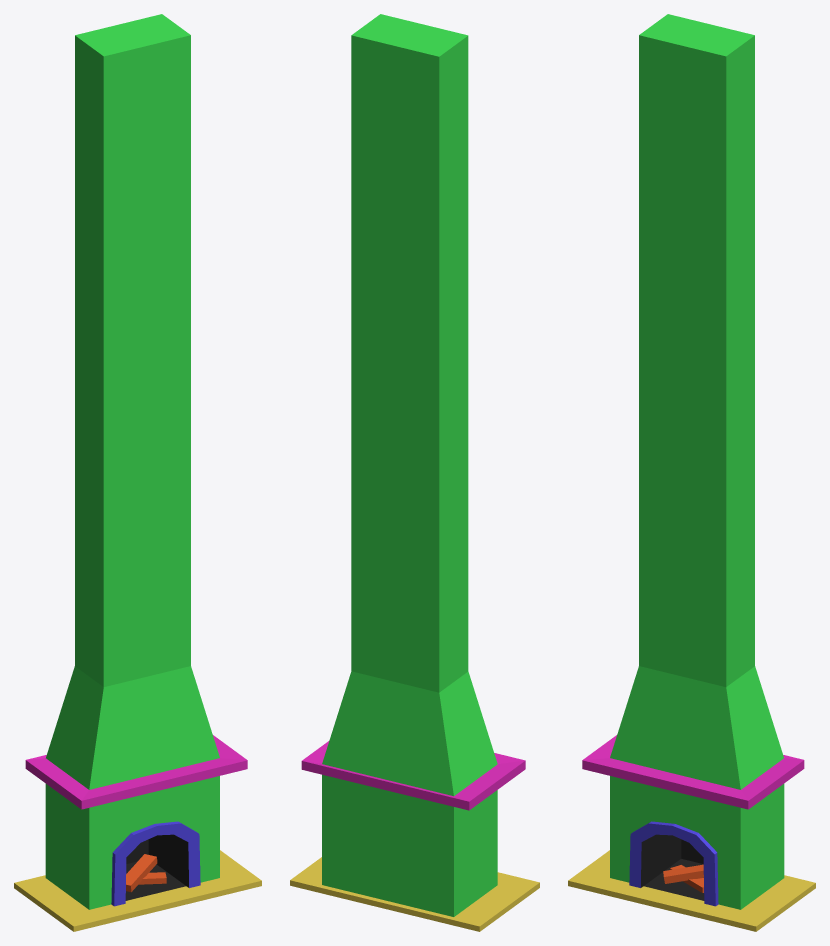
The model's file is lareira.fbx.
The picture shows the model from 3 angles, left to right: view 1: azimuth 30°, elevation 25°; view 2: azimuth 150°, elevation 25°; view 3: azimuth 330°, elevation 25°; orthographic projection.
Visible parts, largest first — view 1: Lareira; view 2: Lareira; view 3: Lareira.
Part boxes in pixels (x1,y1,x2,y2): Lareira: (14,14,261,931); Lareira: (290,14,539,931); Lareira: (568,14,815,931).
Size of the model in its own units: 1212 by 5221 by 666.
